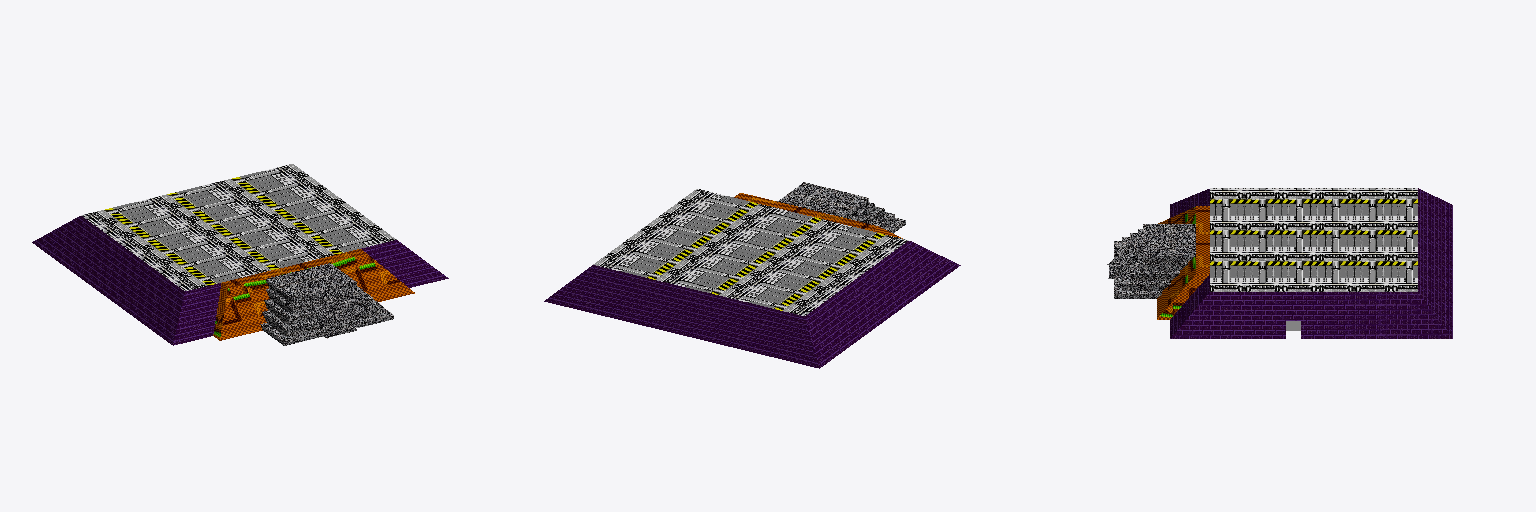
3 renders of one model, left to right at view 1: azimuth 30°, elevation 25°; view 2: azimuth 150°, elevation 25°; view 3: azimuth 270°, elevation 25°, orthographic.
Visible parts, largest first — view 1: Plane, Plane.001, Cube; view 2: Plane, Plane.001; view 3: Plane, Plane.001, Cube.
Part boxes in pixels (left/top/right/bottom): Plane: left=32, top=164, right=448, bottom=345; Plane.001: left=260, top=263, right=393, bottom=345; Cube: left=309, top=287, right=356, bottom=338; Plane: left=544, top=189, right=960, bottom=368; Plane.001: left=777, top=182, right=905, bottom=233; Plane: left=1157, top=188, right=1452, bottom=338; Plane.001: left=1114, top=224, right=1195, bottom=298; Cube: left=1107, top=233, right=1142, bottom=278.
Bounding box in the file's own units: 22.98 × 2.54 × 24.89.
6 materials, 5 textured.